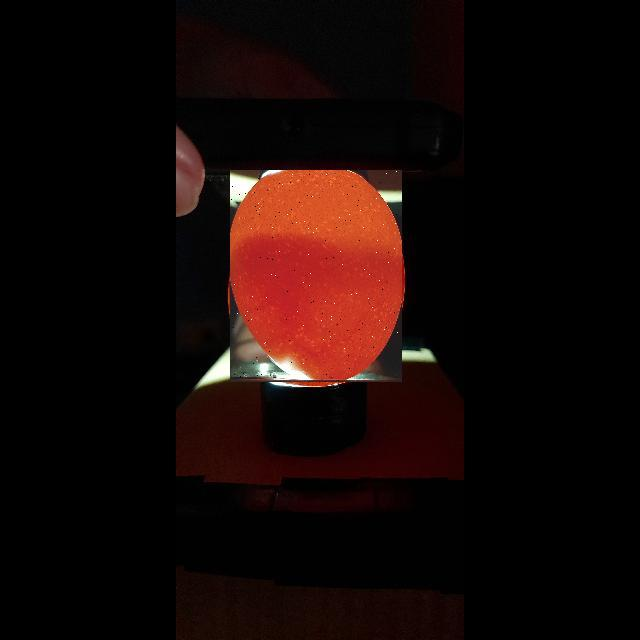Fertile: (230, 170, 402, 382)
